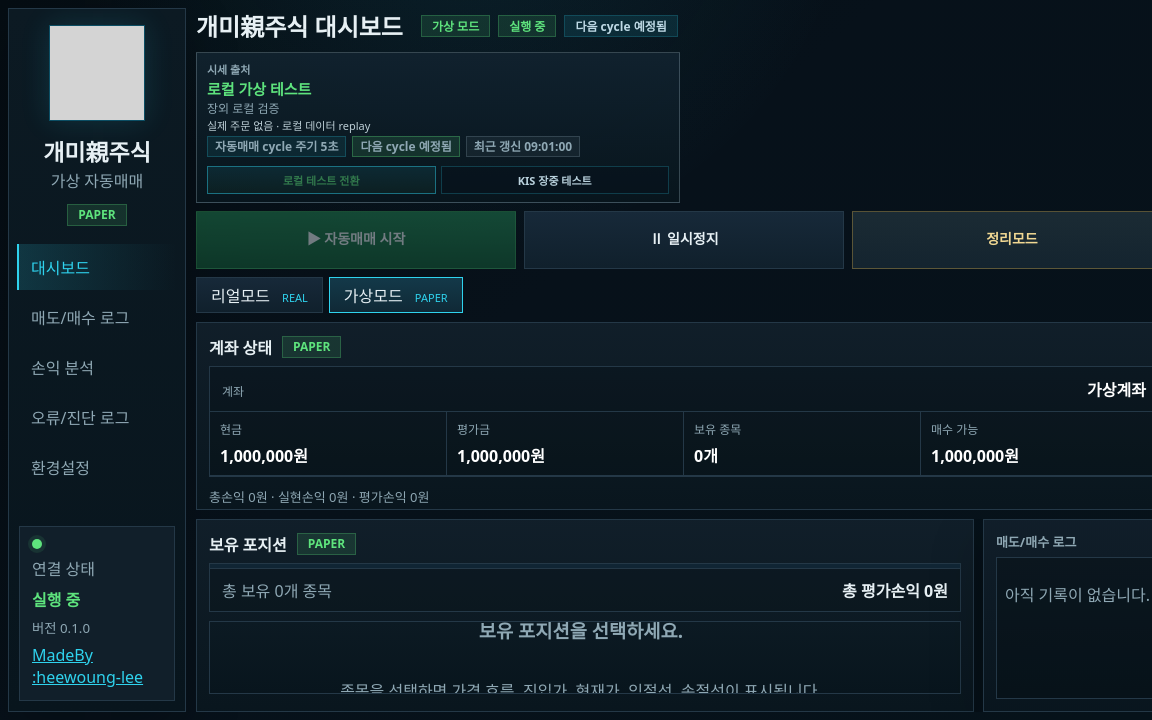
Electron dashboard app shell › shows a market-hours popup when KIS market-hours paper switch is blocked
Click the button "KIS 장중 테스트" at (555, 180), box [440,166,669,194]
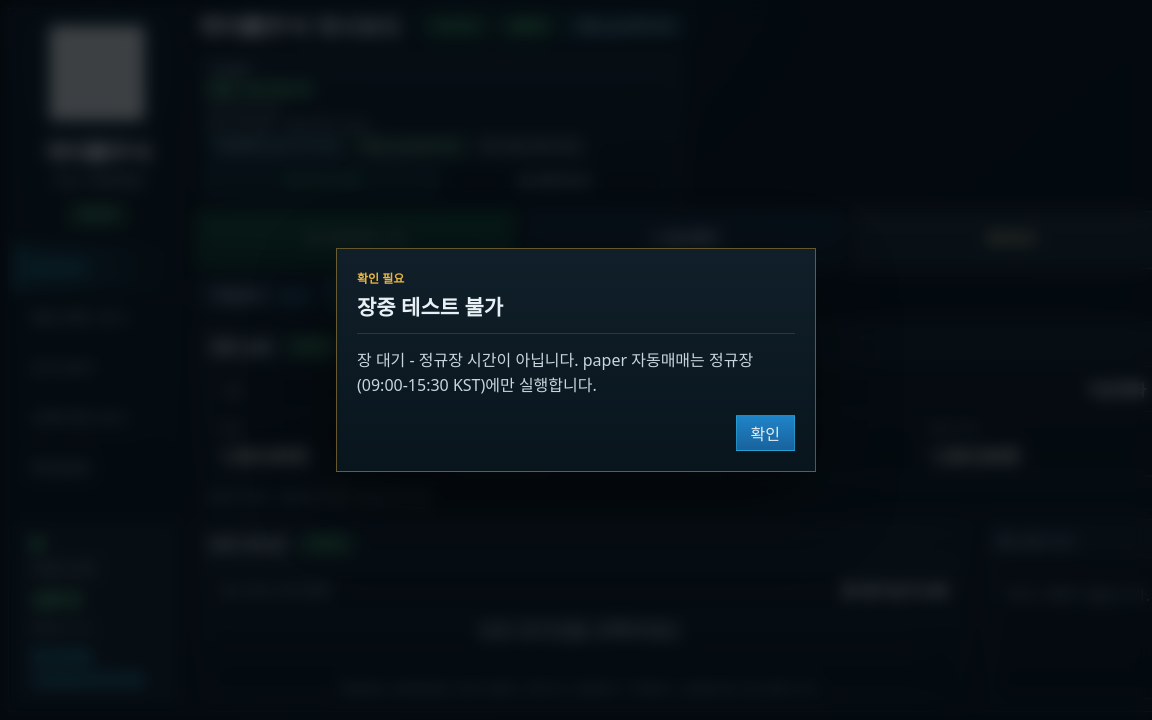
Expected: the dialog "장중 테스트 불가" is shown, [336,248,816,472]
Expected: the text "정규장 시간이 아닙니다" is shown, [357,349,753,396]
